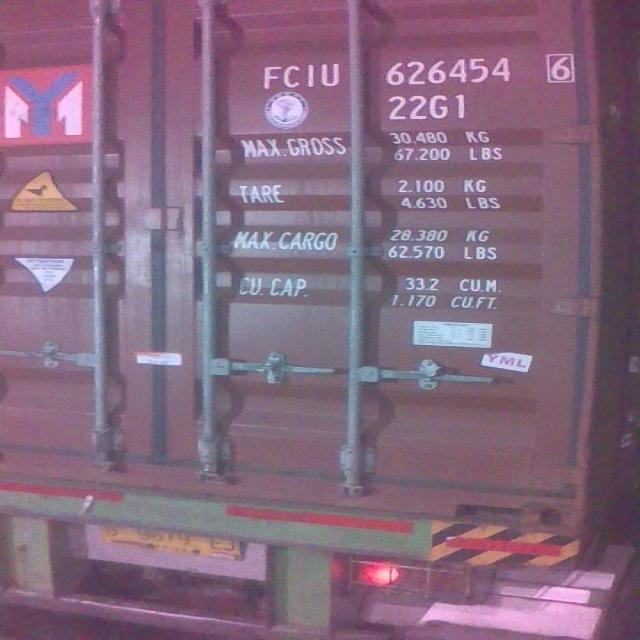seal: (256, 361, 284, 385)
